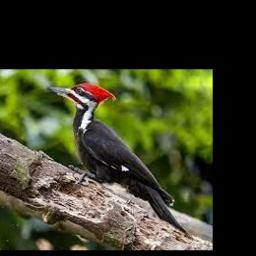Woodpecker: (45, 82, 190, 235)
